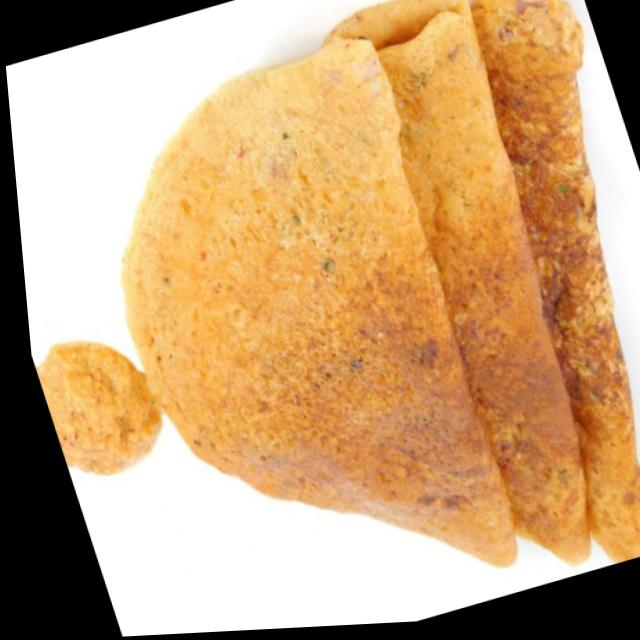DOSA: (123, 0, 640, 571)
RED CHUTNEY: (37, 342, 165, 478)
